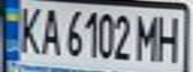0: (97, 9, 118, 60)
1: (81, 8, 100, 60)
2: (112, 10, 136, 61)
6: (60, 7, 84, 58)
A: (36, 3, 63, 56)
H: (154, 11, 187, 63)
K: (15, 2, 45, 56)
M: (133, 11, 163, 63)
